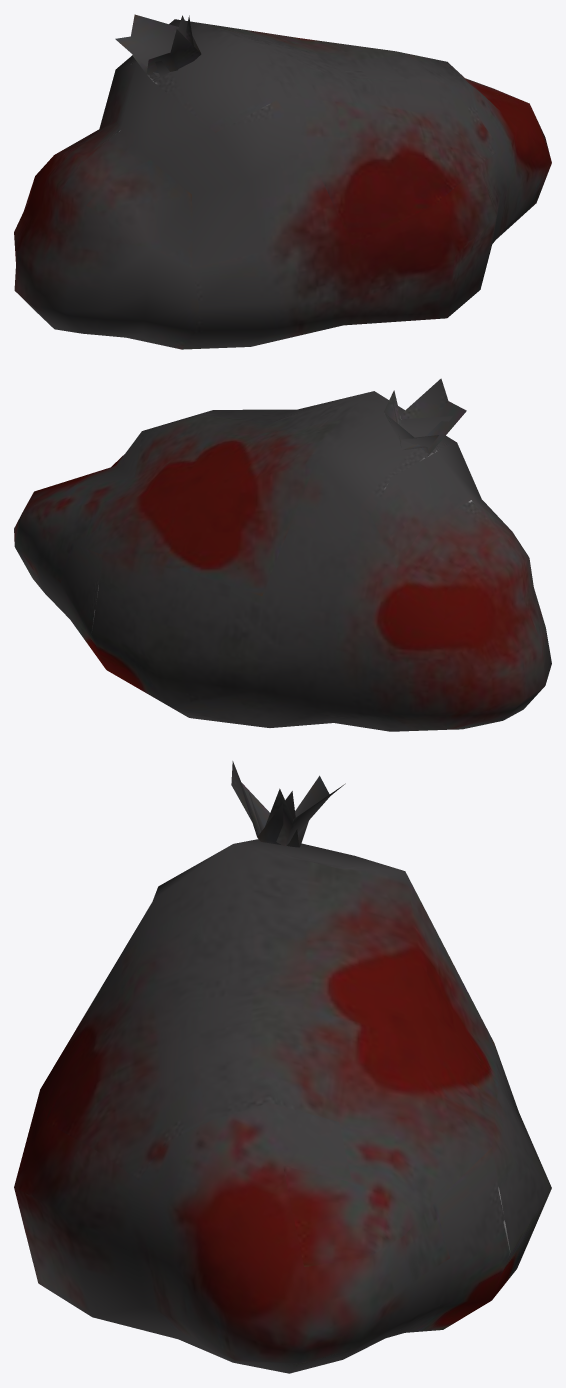
File: sacco1_model.fbx
3 renders of one model, top to bottom at view 1: azimuth 30°, elevation 25°; view 2: azimuth 150°, elevation 25°; view 3: azimuth 270°, elevation 25°, orthographic. The views are drawn at different scales.
Parts seen in each view (by area): view 1: pCube18; view 2: pCube18; view 3: pCube18.
Part boxes in pixels (x1=…): pCube18: x1=14, y1=14, x2=551, y2=349; pCube18: x1=14, y1=378, x2=551, y2=731; pCube18: x1=14, y1=761, x2=551, y2=1373.
Size of the model in its own units: 267 by 162 by 175.
